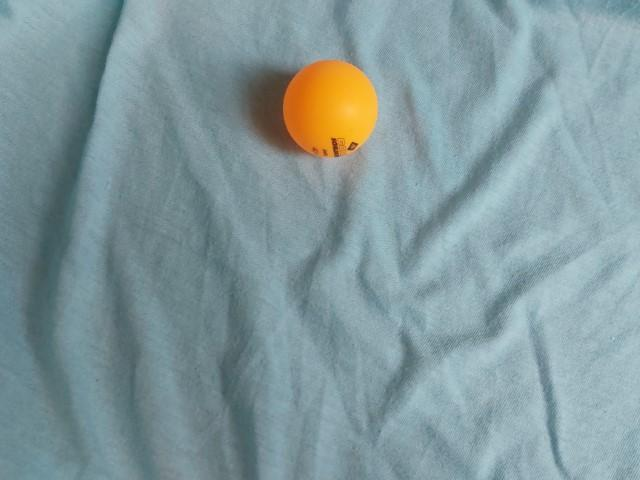oball: (274, 55, 388, 164)
